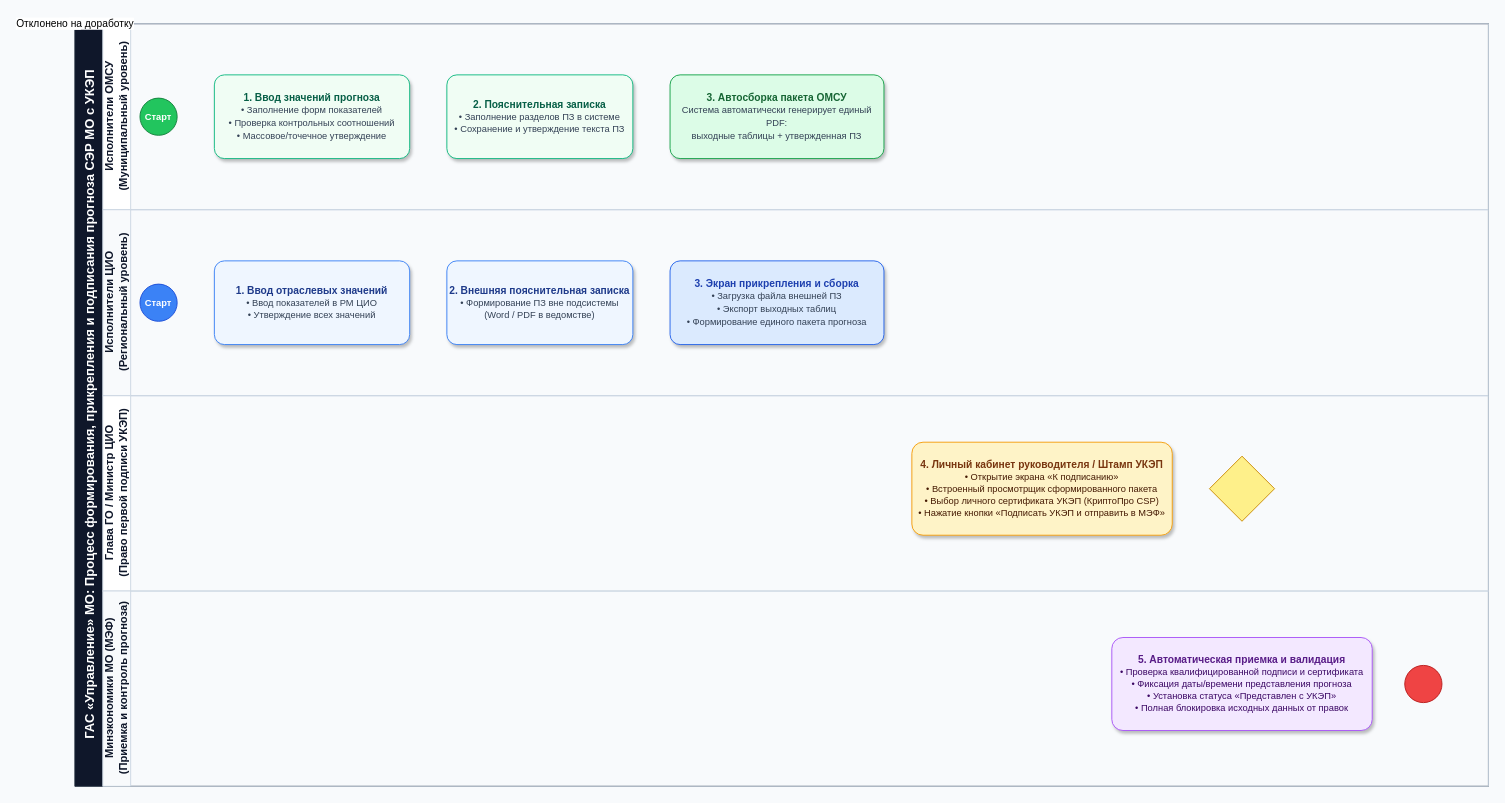
This 1505x803 diagram has some shape labels left out. The centre of each missing label's shape, as x and y in pixels:
"Конец" goes at (x=1423, y=683).
"УКЭП успешна?" goes at (x=1242, y=488).
